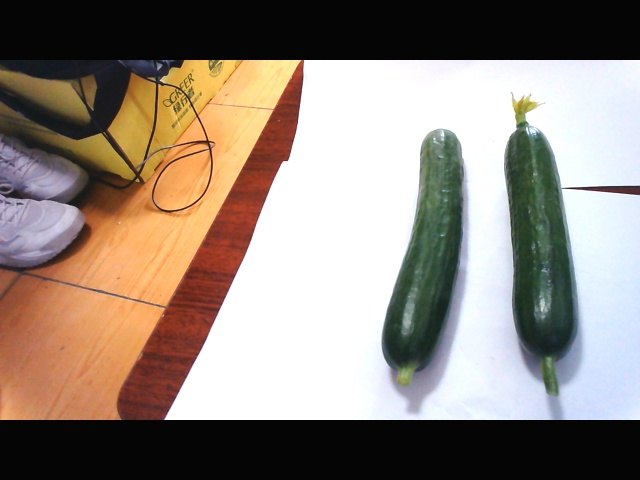cucumber: (496, 106, 589, 393), (380, 114, 466, 377)
